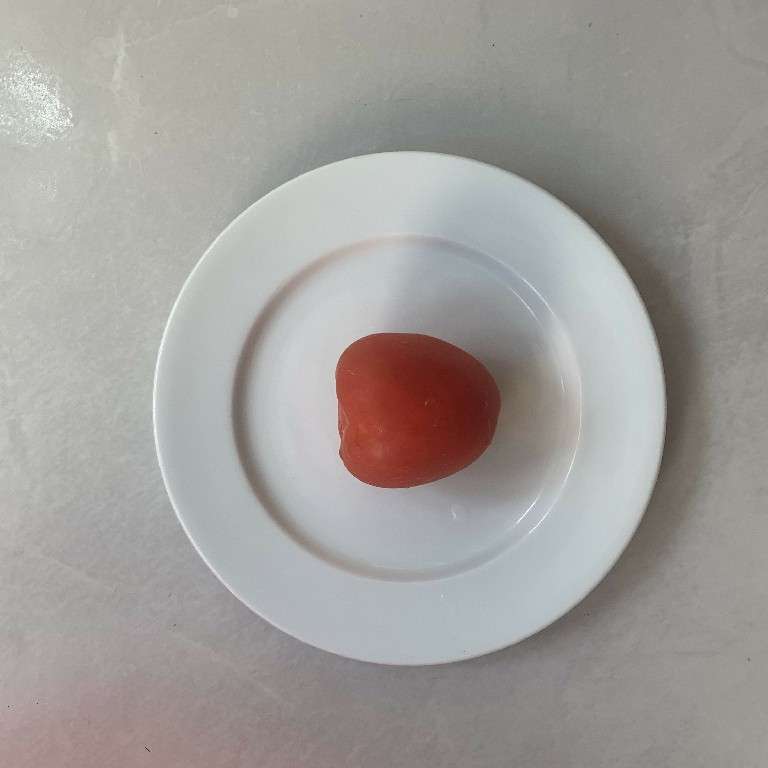OK: (327, 323, 508, 494)
